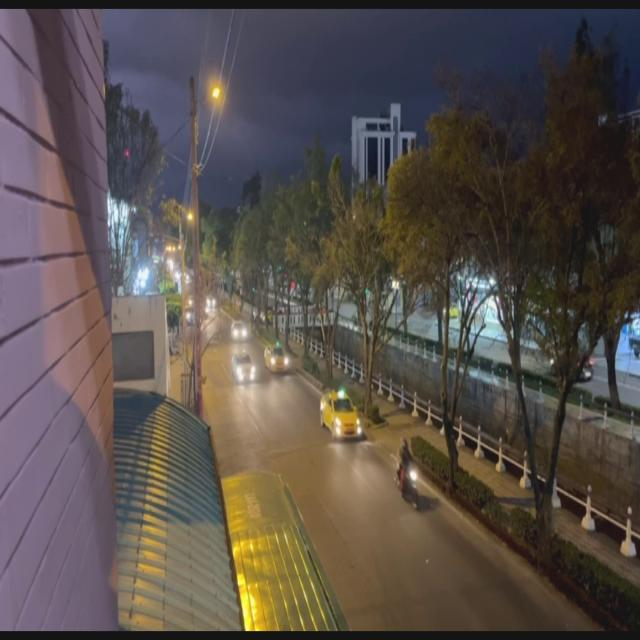MOTORCYCLE: (398, 459, 422, 512)
